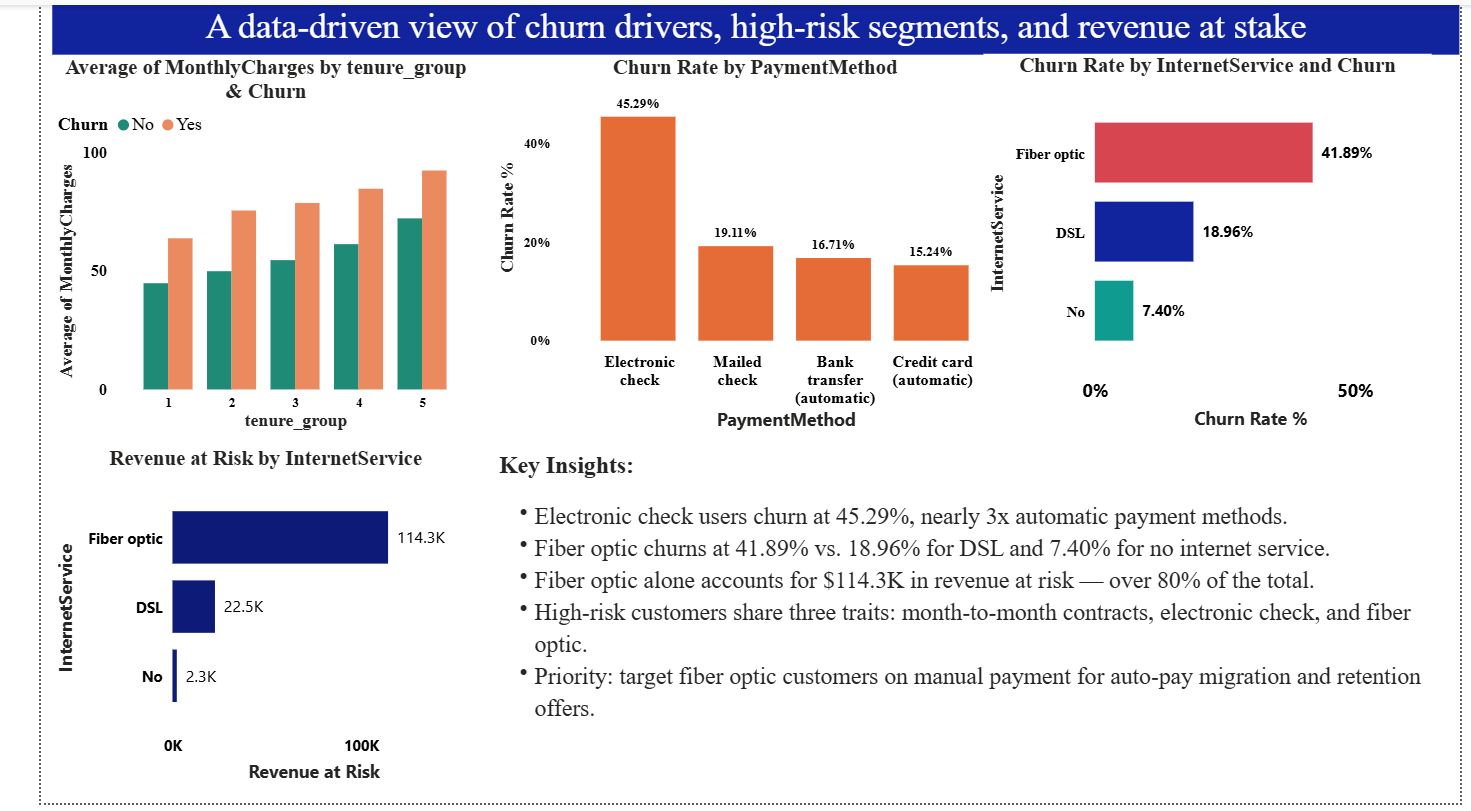

Layout of this report page (visuals, bound fields, positions):
{"tool":"powerbi","page":{"name":"Churn Drivers","canvas":[1280,720],"ordinal":1},"visuals":[{"type":"textbox","title":"A data-driven view of churn drivers, high-risk segments, and revenue at stake","box":[10.7,0,1269,44.5],"z":0},{"type":"clusteredColumnChart","title":"Average of MonthlyCharges by tenure_group & Churn","fields":{"Y":["Avg(telco_churn_customers.MonthlyCharges)"],"Series":["telco_churn_customers.Churn"],"Category":["telco_churn_customers.tenure_group"]},"box":[10.1,44.7,385.2,343.4],"z":1000},{"type":"clusteredColumnChart","title":"Churn Rate by PaymentMethod","fields":{"Category":["telco_churn_customers.PaymentMethod"],"Y":["telco_churn_customers.Churn Rate %"]},"box":[408.3,44.7,471.8,343.4],"z":2000},{"type":"clusteredBarChart","title":"Churn Rate by InternetService and Churn","fields":{"Category":["telco_churn_customers.InternetService"],"Y":["telco_churn_customers.Churn Rate %"]},"box":[849.7,44.3,403.9,344],"z":3000},{"type":"clusteredBarChart","fields":{"Y":["telco_churn_customers.Revenue at Risk"],"Category":["telco_churn_customers.InternetService"]},"box":[9.6,397.9,384.7,308],"z":4000},{"type":"textbox","box":[408.3,398.2,861.3,307.3],"z":5000}]}

Visuals, with their boxes in screenshot pixels (x1, y1, x2, y2), scaled from the page's 1280x720 canvas onto the 1471x811 screenshot:
"A data-driven view of churn drivers, high-risk segments, and revenue at stake" textbox: 12 0 1470 50
"Average of MonthlyCharges by tenure_group & Churn" clusteredColumnChart: 12 50 454 437
"Churn Rate by PaymentMethod" clusteredColumnChart: 469 50 1011 437
"Churn Rate by InternetService and Churn" clusteredBarChart: 976 50 1441 437
clusteredBarChart - telco_churn_customers.Revenue at Risk x telco_churn_customers.InternetService: 11 448 453 795
textbox: 469 449 1459 795
